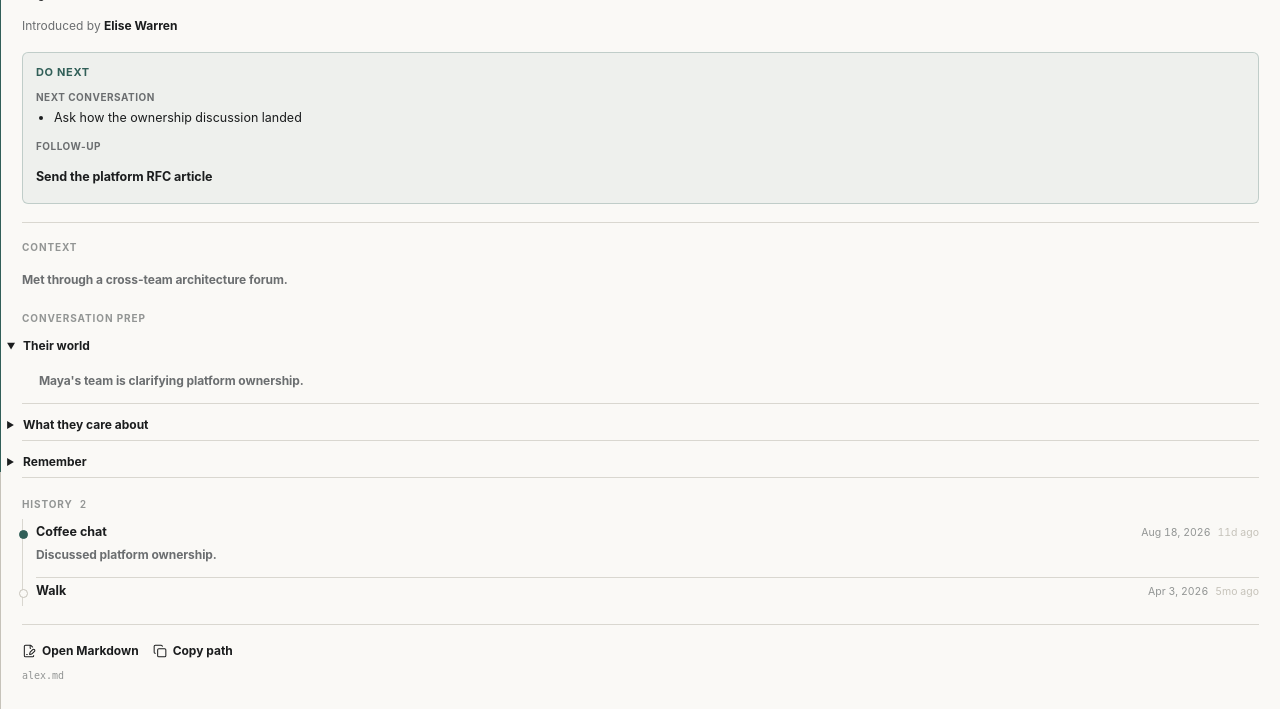
Scenario: PersonDetail › announces clipboard failures
(page scrolled)
Click the button "Copy path": click(193, 651) x1=153 y1=643 x2=233 y2=659
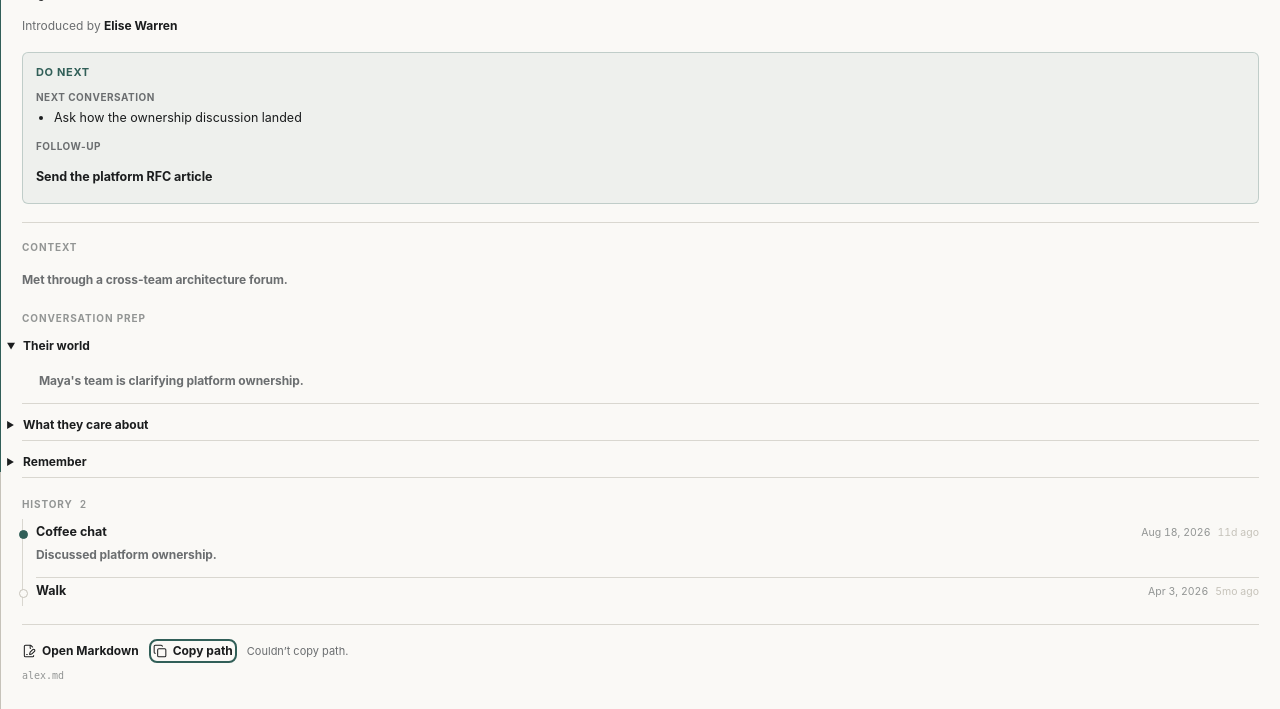
Expected: the text "Couldn’t copy path." is shown, x1=247 y1=644 x2=348 y2=658
